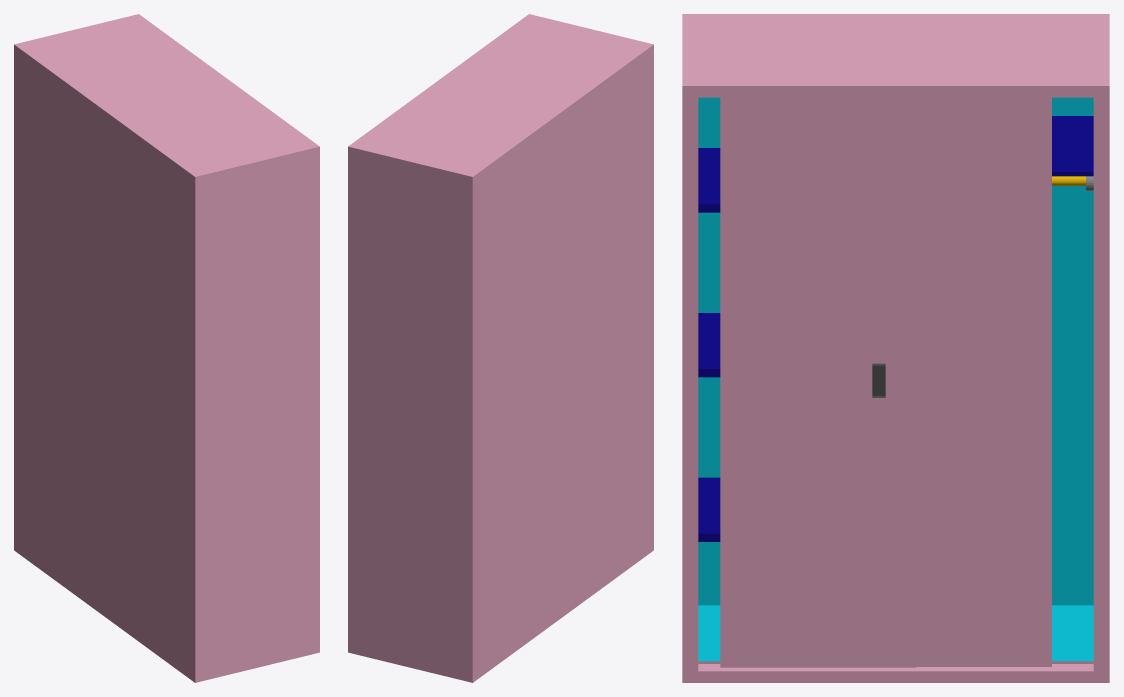
The model's file is armario.glb.
The picture shows the model from 3 angles, left to right: view 1: azimuth 30°, elevation 25°; view 2: azimuth 150°, elevation 25°; view 3: azimuth 270°, elevation 25°; orthographic projection. The views are drawn at different scales.
Parts seen in each view (by area): view 1: Closet; view 2: Closet; view 3: Left Door, Closet, Right Door.
Boxes of the visible parts, x1,y1,x2,y2 form: Closet: (14,14,319,682); Closet: (348,14,653,682); Left Door: (720,97,916,667); Closet: (682,14,1109,682); Right Door: (916,97,1051,666).
Bounding box in the file's own units: 2 × 7.75 × 5.03.
